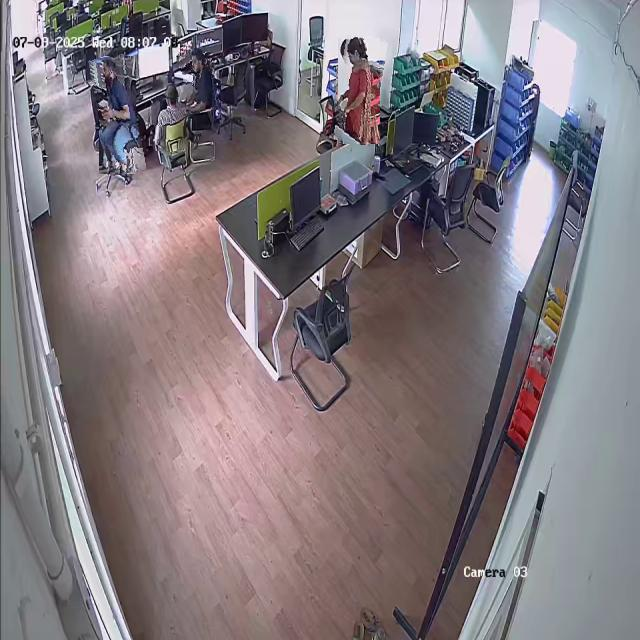person: (94, 55, 141, 175), (334, 37, 384, 145), (181, 47, 218, 113), (154, 84, 186, 152)
